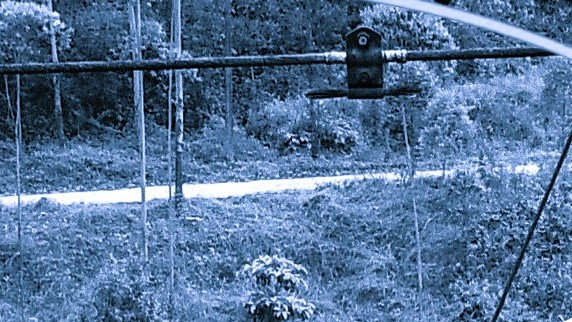Damage of shockproof hammer: (294, 22, 430, 112)
